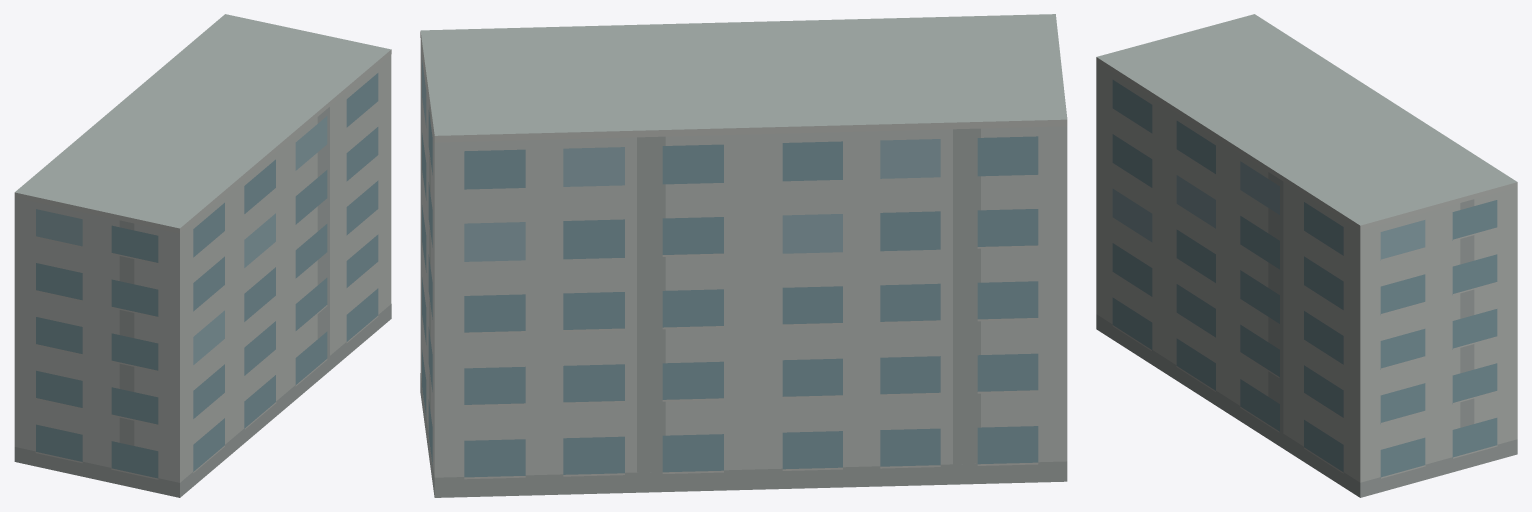
File: survey-upis-32621696.glb
The picture shows the model from 3 angles, left to right: view 1: azimuth 30°, elevation 25°; view 2: azimuth 150°, elevation 25°; view 3: azimuth 270°, elevation 25°; orthographic projection. The views are drawn at different scales.
Parts seen in each view (by area): view 1: survey-upis-32621696.tmp; view 2: survey-upis-32621696.tmp; view 3: survey-upis-32621696.tmp.
Boxes of the visible parts, left/top/right/bottom form: survey-upis-32621696.tmp: left=14, top=14, right=391, bottom=497; survey-upis-32621696.tmp: left=420, top=14, right=1067, bottom=497; survey-upis-32621696.tmp: left=1096, top=14, right=1517, bottom=497.
Bounding box in the file's own units: 22.01 × 13.2 × 18.52.
